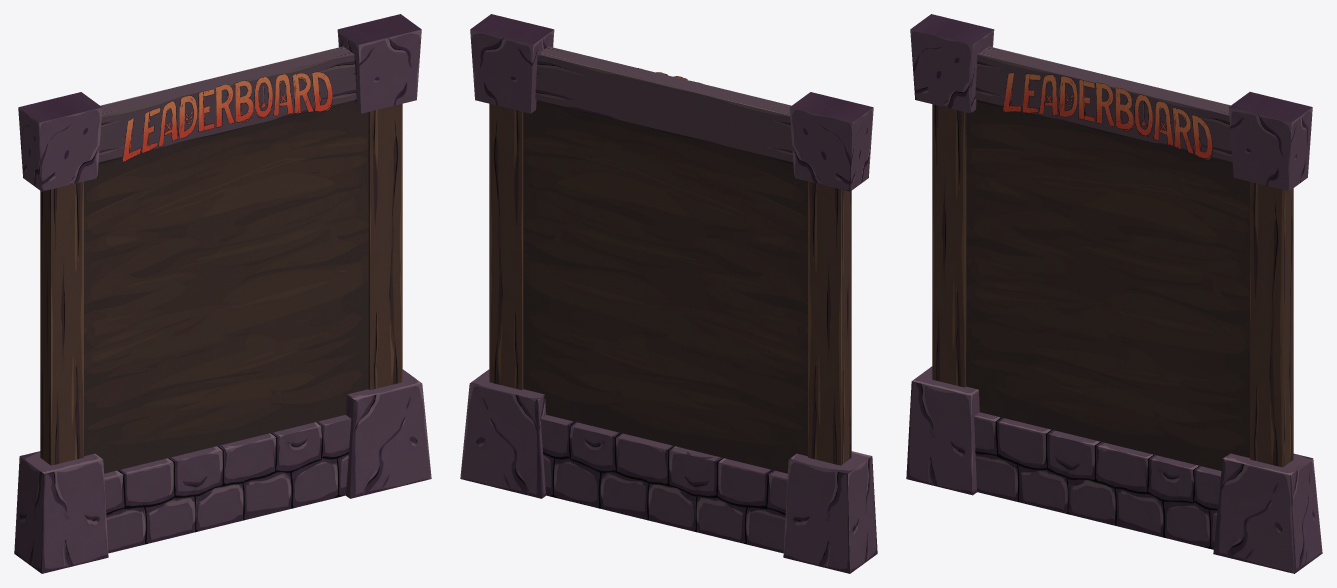
File: Leaderboard.glb
The picture shows the model from 3 angles, left to right: view 1: azimuth 30°, elevation 25°; view 2: azimuth 150°, elevation 25°; view 3: azimuth 330°, elevation 25°; orthographic projection.
Visible parts, largest first — view 1: Leaderboard; view 2: Leaderboard; view 3: Leaderboard.
Part boxes in pixels (x1,y1,x2,y2): Leaderboard: (14,14,431,573); Leaderboard: (460,14,877,573); Leaderboard: (906,14,1322,573).
Size of what is drawn, in the model's own units: 9.24 by 10.17 by 1.15.
Materials: 1 (1 with a texture image).
